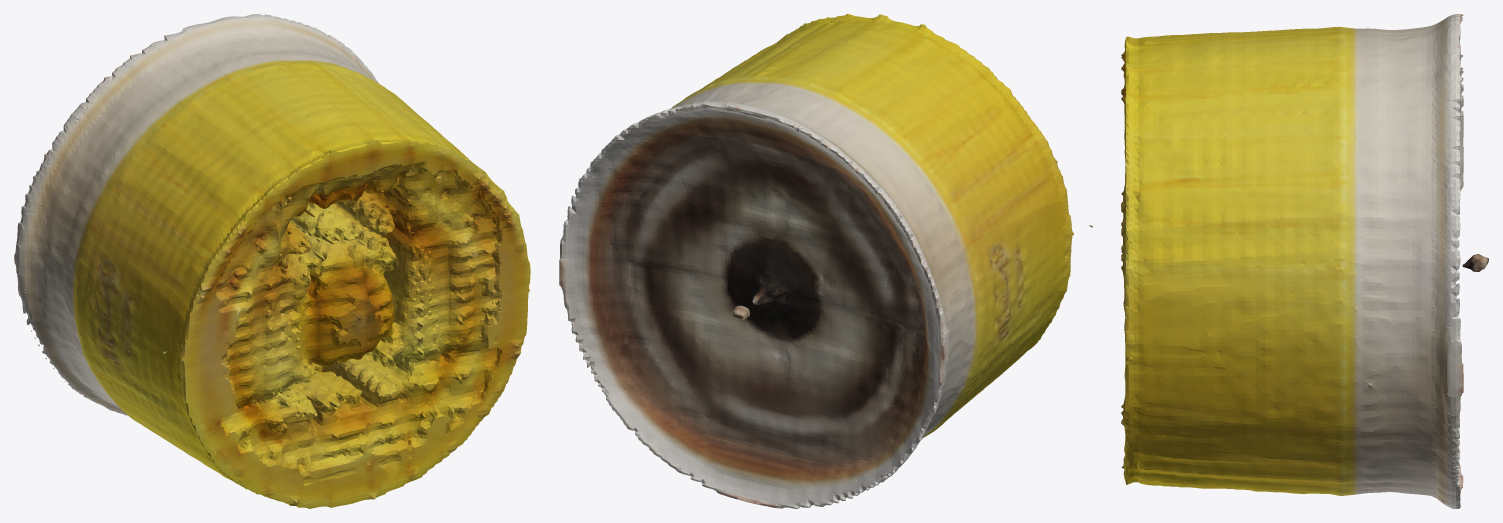
The picture shows the model from 3 angles, left to right: view 1: azimuth 30°, elevation 25°; view 2: azimuth 150°, elevation 25°; view 3: azimuth 270°, elevation 25°; orthographic projection. The views are drawn at different scales.
Visible parts, largest first — view 1: geometry_0; view 2: geometry_0; view 3: geometry_0.
Part boxes in pixels (<box>): geometry_0: <box>14,14,530,508</box>; geometry_0: <box>559,14,1092,508</box>; geometry_0: <box>1121,14,1488,508</box>.
Bounding box in the file's own units: 1.7 × 1.65 × 1.24.
